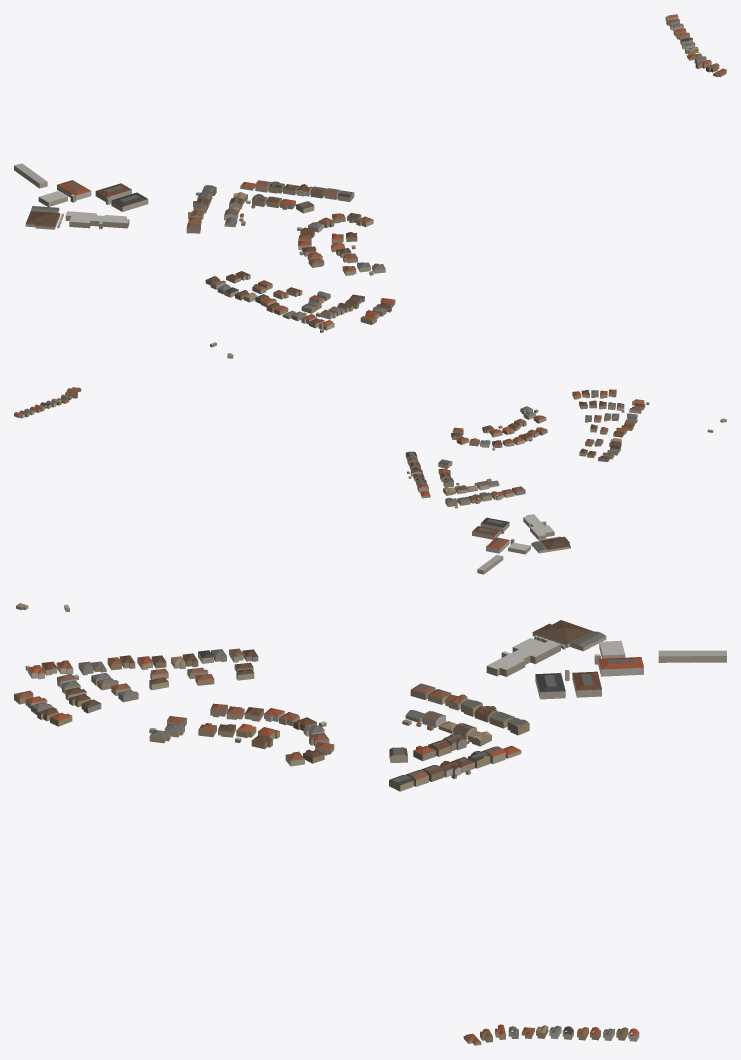
The picture shows the model from 3 angles, top to bottom: view 1: azimuth 30°, elevation 25°; view 2: azimuth 150°, elevation 25°; view 3: azimuth 270°, elevation 25°; orthographic projection. The views are drawn at different scales.
Visible parts, largest first — view 1: buildings_r6_c5_lod1; view 2: buildings_r6_c5_lod1; view 3: buildings_r6_c5_lod1.
Part boxes in pixels (x1,y1,x2,y2): buildings_r6_c5_lod1: (14,14,726,358); buildings_r6_c5_lod1: (14,387,726,574); buildings_r6_c5_lod1: (14,603,726,1045).
Size of the model in its own units: 1136 by 44.24 by 763.
